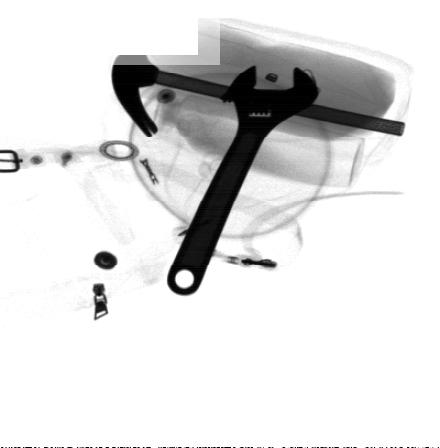Hammer: (111, 55, 406, 136)
Wrench: (165, 62, 319, 295)
